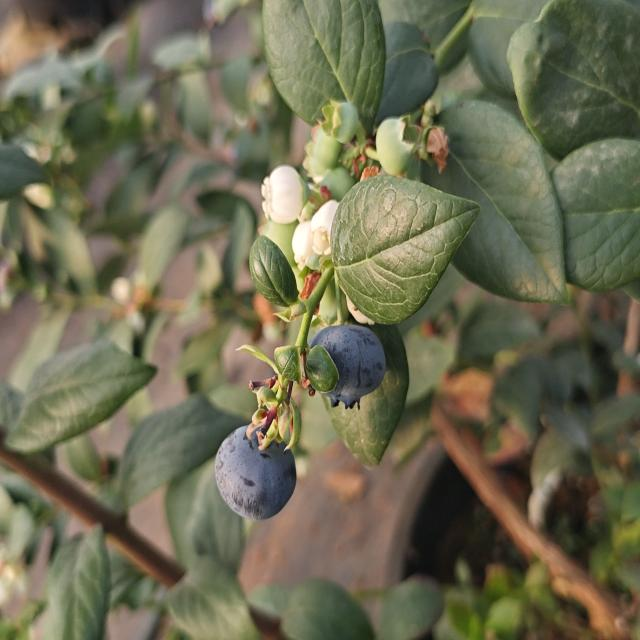ripe: (304, 312, 400, 418), (212, 418, 302, 526)
